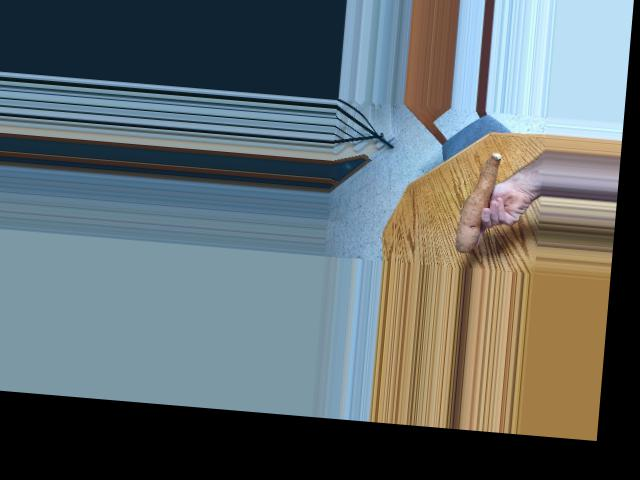sweet_potato: (451, 148, 506, 254)
